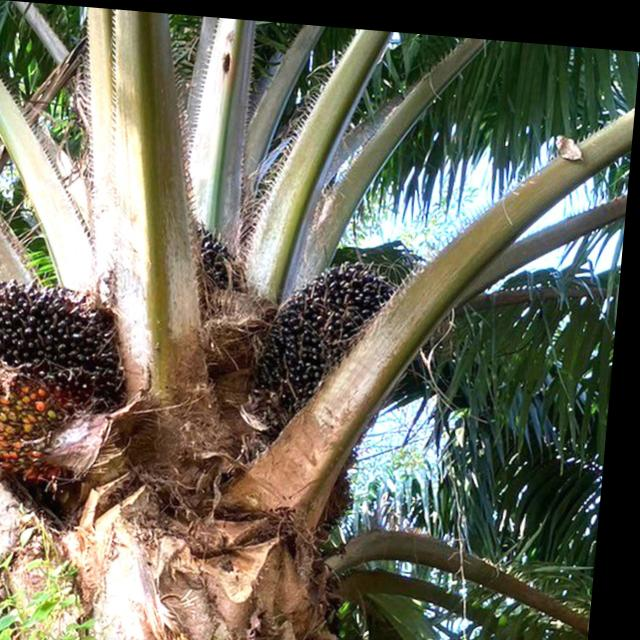unripe: (248, 241, 408, 441)
